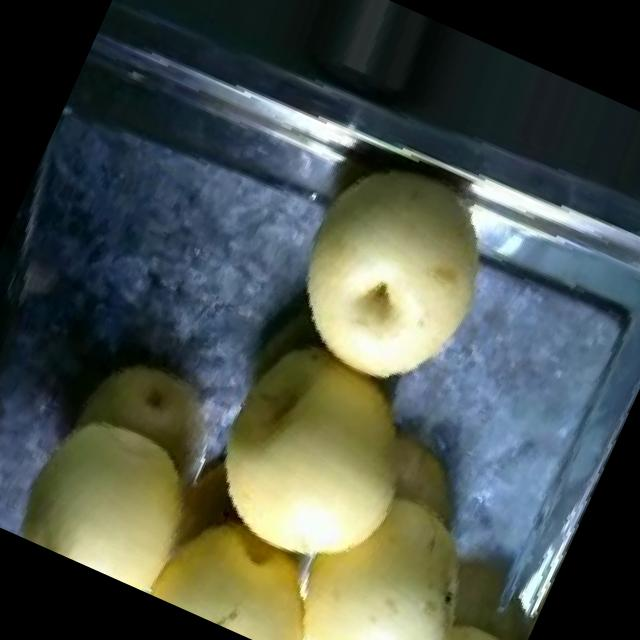Fruit: (160, 294, 472, 614), (254, 134, 530, 424), (0, 381, 235, 604), (256, 452, 523, 640), (117, 473, 380, 640), (363, 571, 534, 640)
